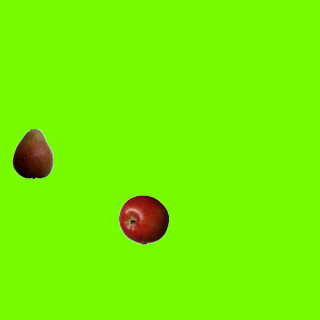Apple Braeburn: (118, 194, 168, 244)
Pear Forelle: (7, 128, 57, 178)
